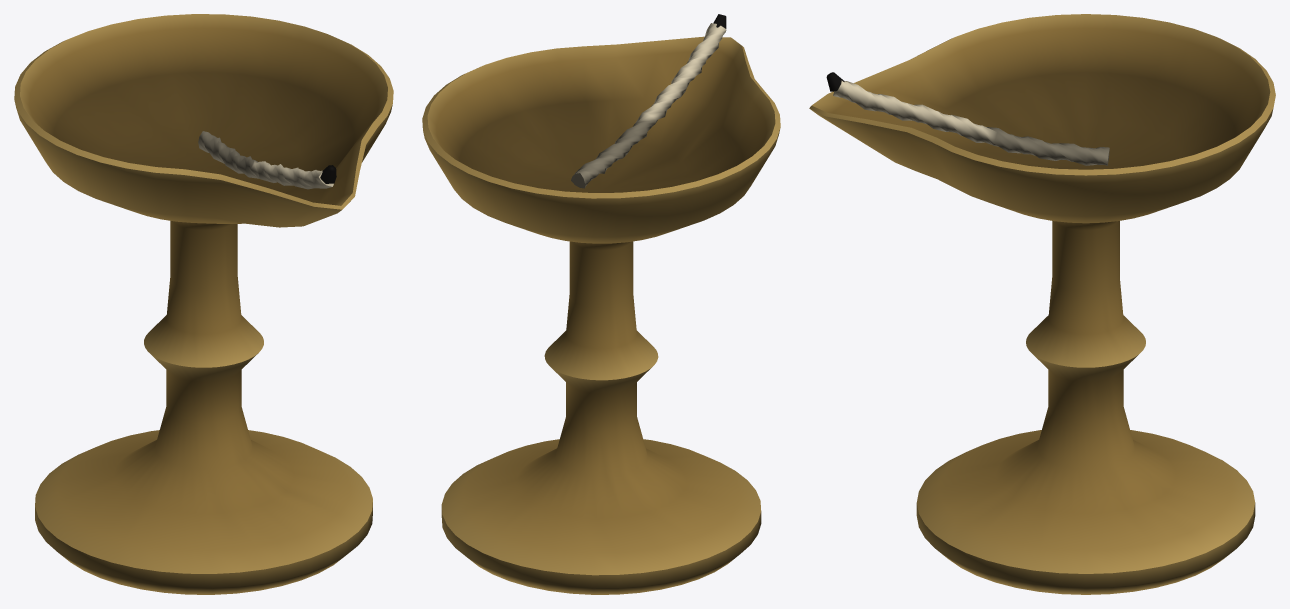
The model's file is oil-lamp.f1a2ce41.glb.
3 renders of one model, left to right at view 1: azimuth 30°, elevation 25°; view 2: azimuth 150°, elevation 25°; view 3: azimuth 270°, elevation 25°, orthographic. The views are drawn at different scales.
Parts seen in each view (by area): view 1: oil_lamp; view 2: oil_lamp; view 3: oil_lamp.
Boxes of the visible parts, box(x1,y1,x2,y2) form: oil_lamp: box(14, 14, 393, 594); oil_lamp: box(422, 14, 780, 594); oil_lamp: box(809, 14, 1275, 594).
Bounding box in the file's own units: 0.101 × 0.1341 × 0.1241.
